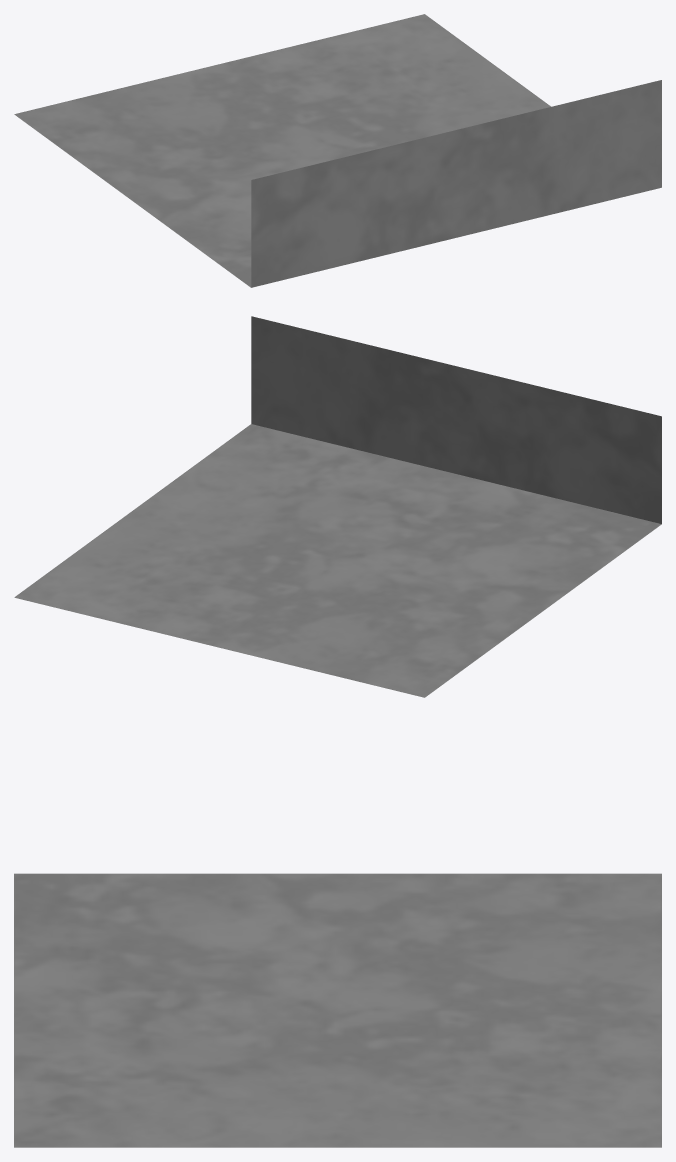
The model's file is grd_bottom_center.fbx.
The picture shows the model from 3 angles, top to bottom: view 1: azimuth 30°, elevation 25°; view 2: azimuth 150°, elevation 25°; view 3: azimuth 270°, elevation 25°; orthographic projection. The views are drawn at different scales.
Visible parts, largest first — view 1: bottom_center; view 2: bottom_center; view 3: bottom_center.
Boxes of the visible parts, box(x1,y1,x2,y2) form: bottom_center: box(14, 14, 661, 287); bottom_center: box(14, 316, 661, 697); bottom_center: box(14, 873, 661, 1147).
Bounding box in the file's own units: 39.98 × 10.03 × 39.98.
